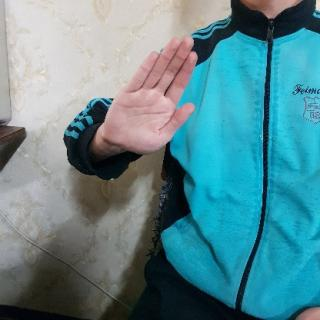SEEN: (97, 31, 201, 162)
